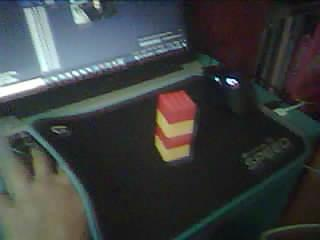lego: (153, 90, 197, 163)
